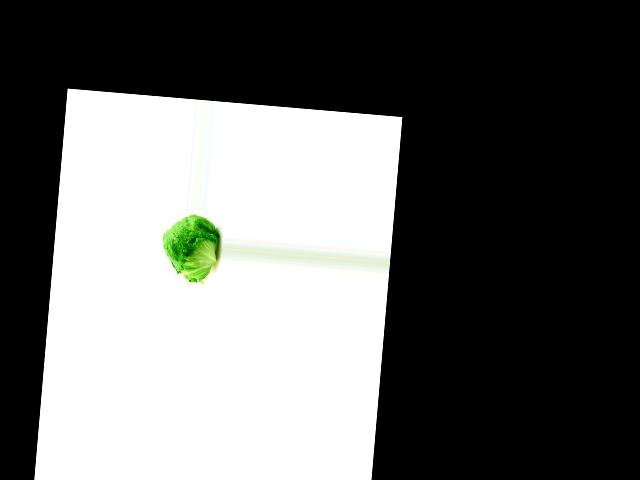lettuce: (157, 210, 221, 284)
